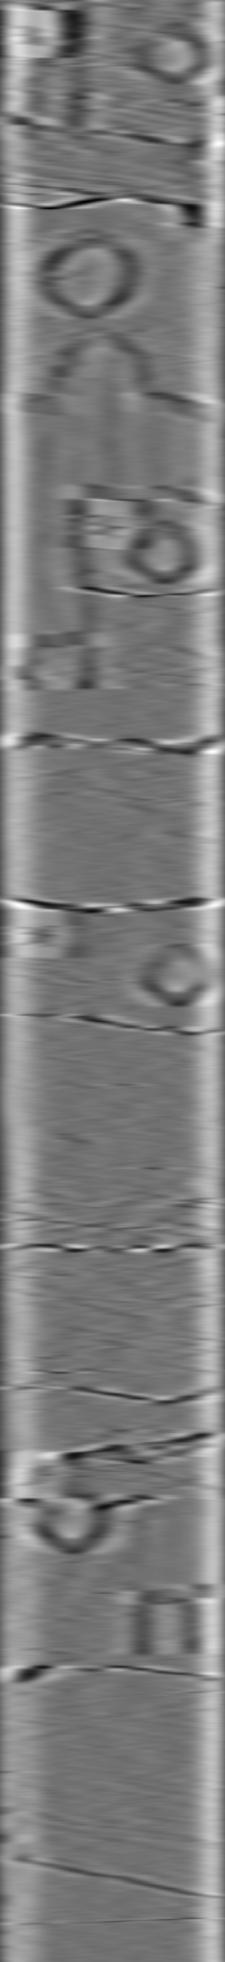hplug: (29, 1487, 107, 1560), (127, 514, 205, 586), (137, 938, 215, 1010), (132, 18, 207, 88)
scal: (37, 218, 145, 322), (42, 322, 149, 402)
vplug: (19, 512, 99, 694), (127, 1490, 207, 1660)
